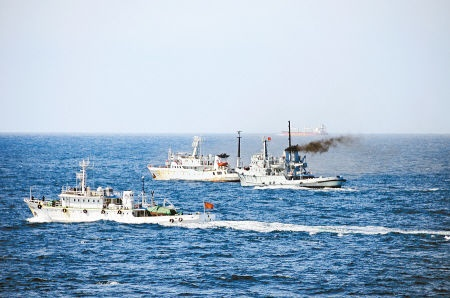Cargoship: (232, 145, 345, 192), (281, 121, 333, 138)
warship: (27, 160, 212, 230), (143, 135, 271, 182)
